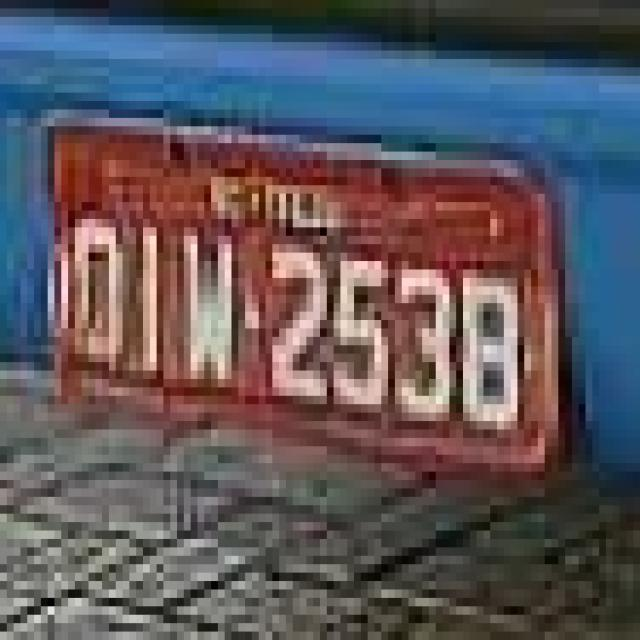3: (393, 250, 463, 442)
5: (332, 240, 398, 429)
8: (458, 261, 526, 449)
I: (132, 210, 172, 383)
Q: (67, 204, 129, 380)
W: (181, 207, 243, 405)
